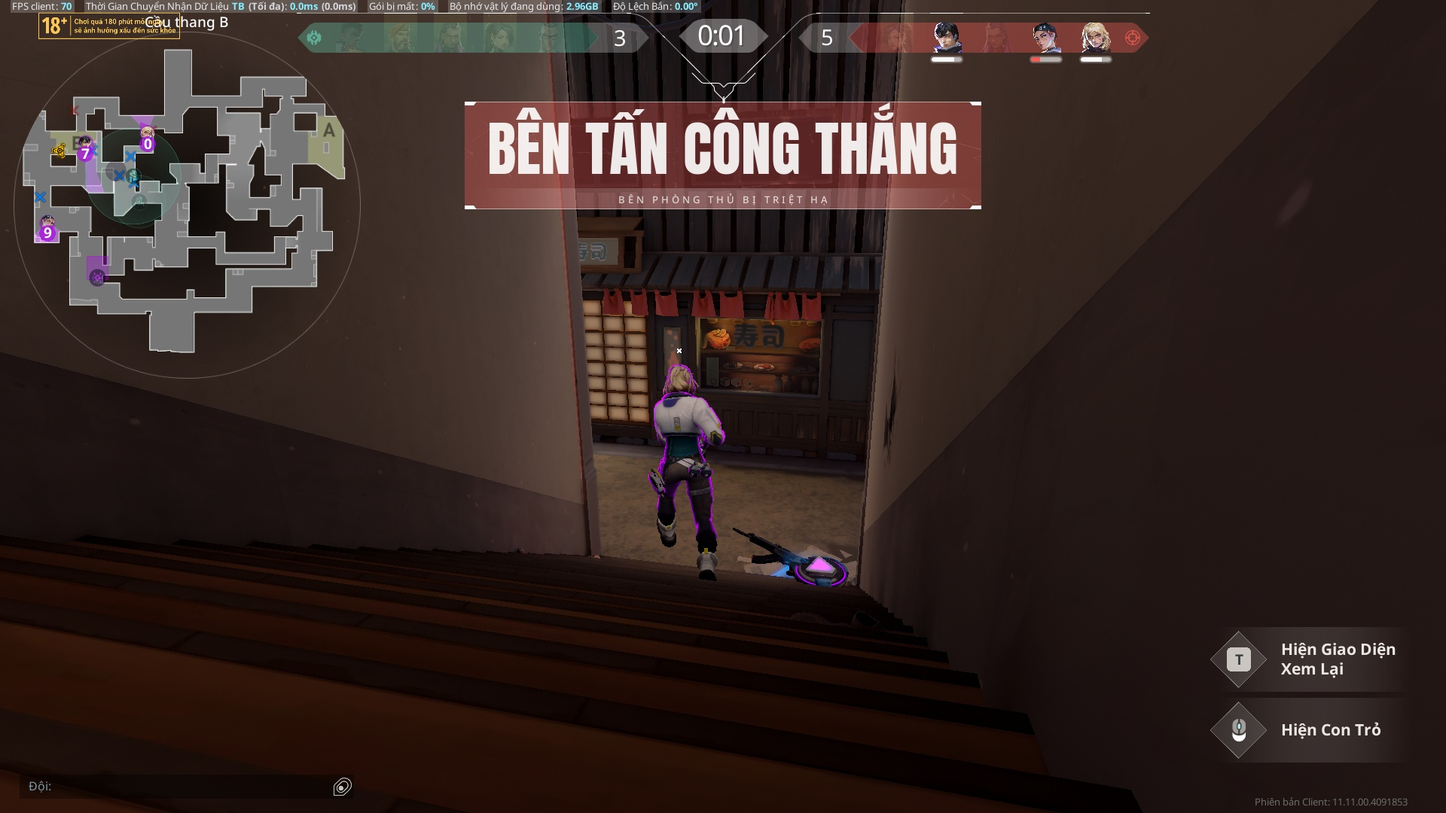body: (651, 395, 713, 458)
head: (666, 364, 694, 390)
